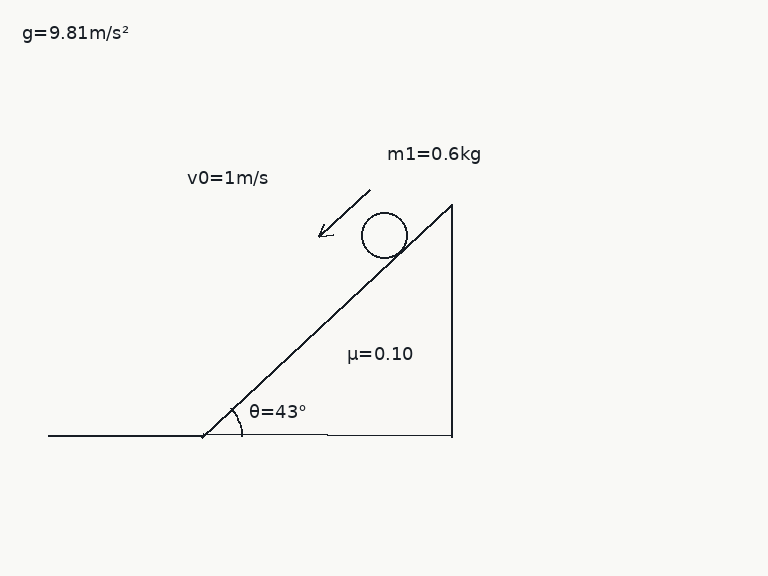ball: (359, 210, 409, 260)
ramp: (200, 201, 453, 438)
